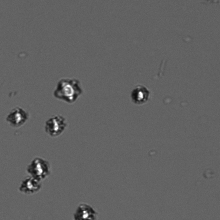Living Cell: (54, 78, 83, 104), (25, 156, 51, 181), (44, 114, 67, 137), (128, 84, 152, 105), (7, 106, 29, 127), (18, 176, 41, 196), (73, 203, 96, 218)
